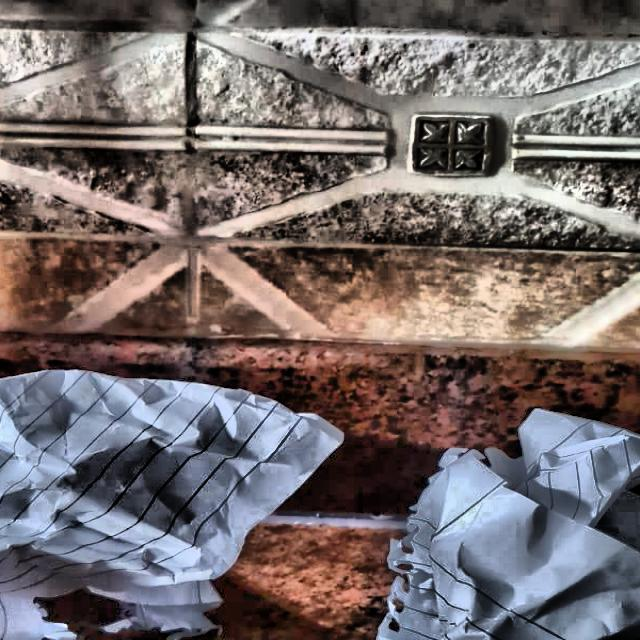paper: (0, 353, 306, 640), (385, 395, 640, 640)
